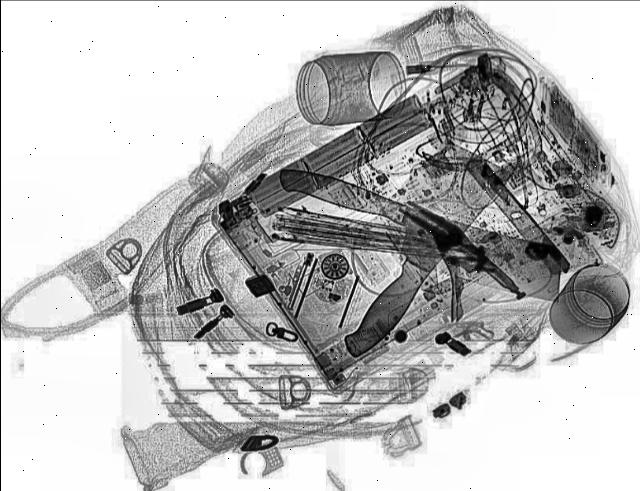Knife: (295, 138, 515, 364), (251, 164, 585, 302)
